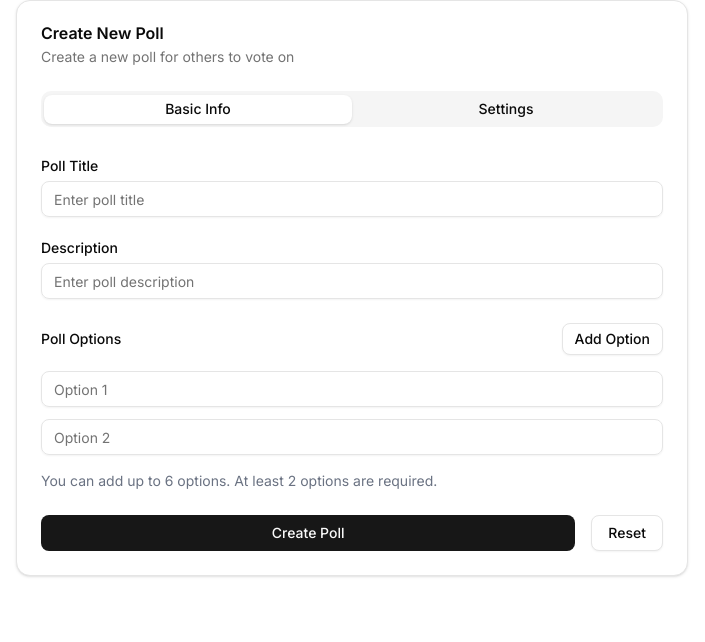
CreatePollForm › should allow adding new options
The image size is (705, 642).
What coordinates should you click on to do the following:
click the button "Add Option"
I would click on:
 (612, 339)
Its box is [562,323,663,355].
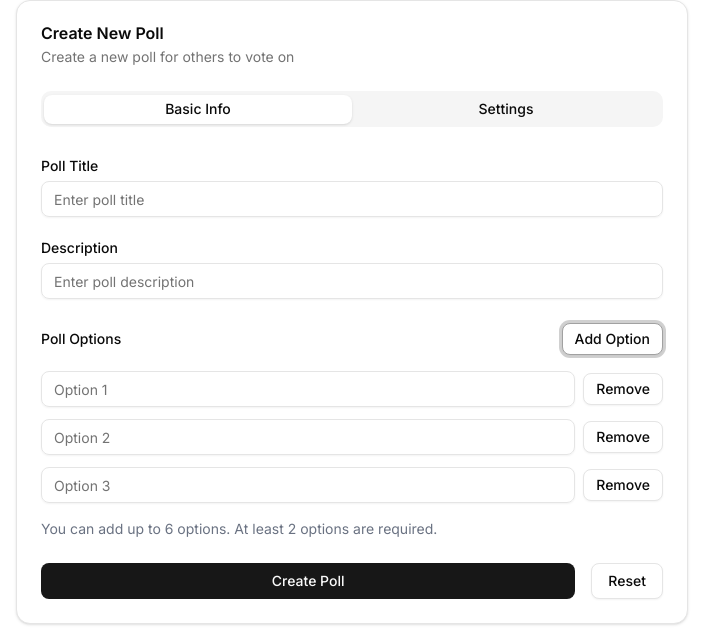
Check: the field with placeholder "Option 3" is shown, box [41,467,575,503]
